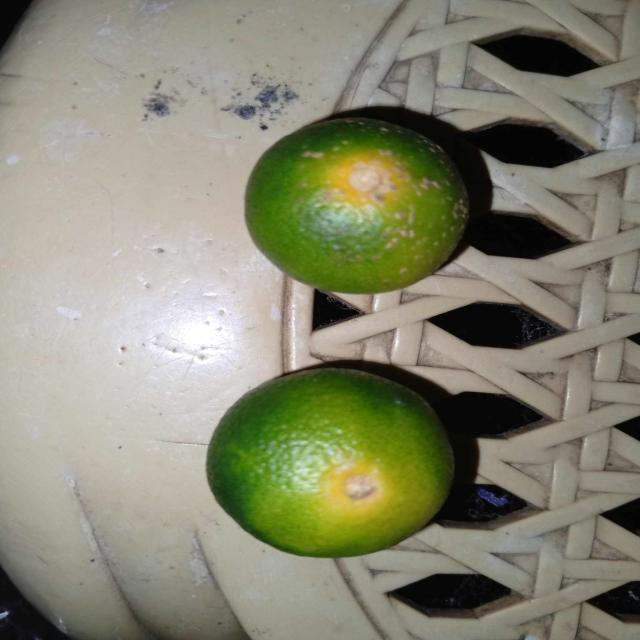heathy: (207, 359, 466, 557)
scab: (242, 115, 478, 302)
